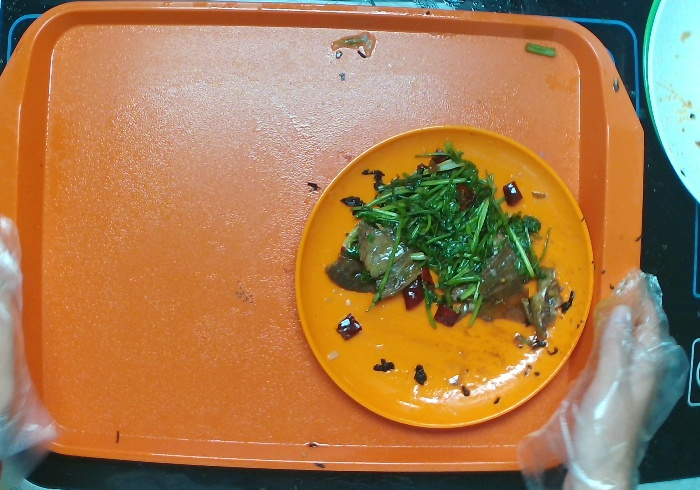HZYJPL-Ju_Huang_Yuan_Pan: (291, 121, 594, 430)
